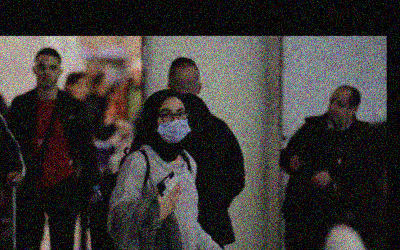with_mask: (156, 106, 192, 142)
without_mask: (326, 95, 349, 123), (34, 60, 57, 87)
